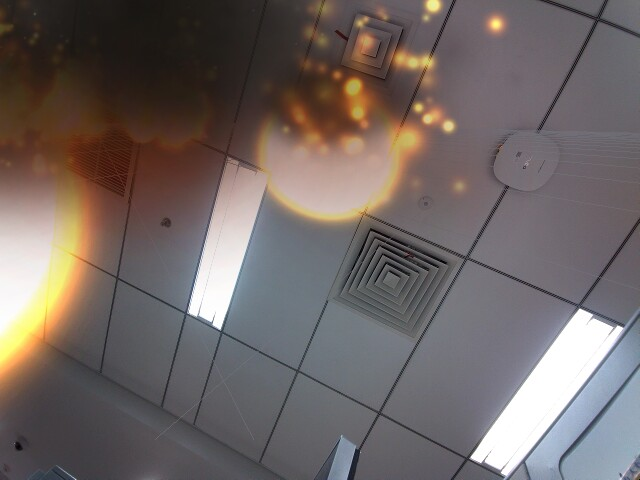fire: (0, 128, 96, 405), (261, 86, 405, 219)
